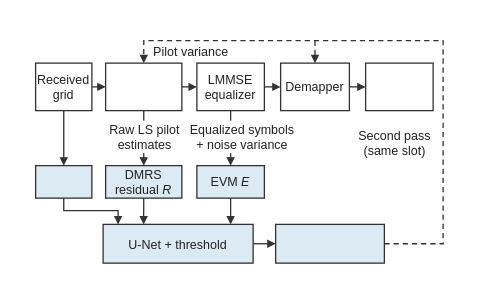
The diagram is 479 pixels wide and 301 high, and some of its shapes have lost their labels. The shapes that lost their labels are listed below. From the top down, each one's centre as x and y in pixels, then its label:
At (x=363, y=51): "Data variance".
At (x=143, y=86): "DMRS channel estimation".
At (x=398, y=86): "LDPC decoder".
At (x=63, y=181): "Power P".
At (x=329, y=243): "Jamming map (24 × 14)".
